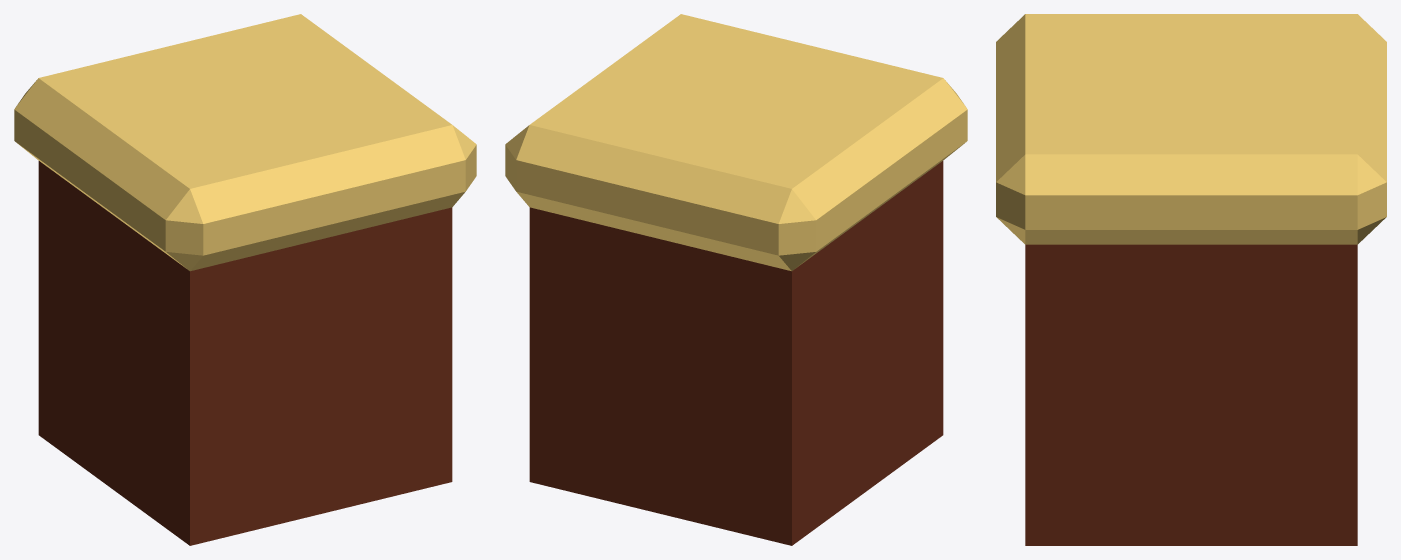
Rendered from SandSingle.fbx.
The picture shows the model from 3 angles, left to right: view 1: azimuth 30°, elevation 25°; view 2: azimuth 150°, elevation 25°; view 3: azimuth 270°, elevation 25°; orthographic projection. The views are drawn at different scales.
Parts seen in each view (by area): view 1: Cube.008; view 2: Cube.008; view 3: Cube.008.
Boxes of the visible parts, box(x1,y1,x2,y2) form: Cube.008: box(14, 14, 476, 545); Cube.008: box(505, 14, 967, 545); Cube.008: box(996, 14, 1386, 545).
Bounding box in the file's own units: 237 × 260 × 235.
